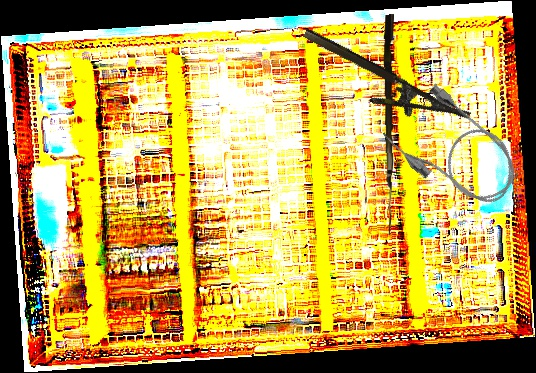Cannula: (377, 77, 532, 224)
Hook Surgical: (380, 14, 402, 235)
Needle Holder: (290, 26, 472, 146)
